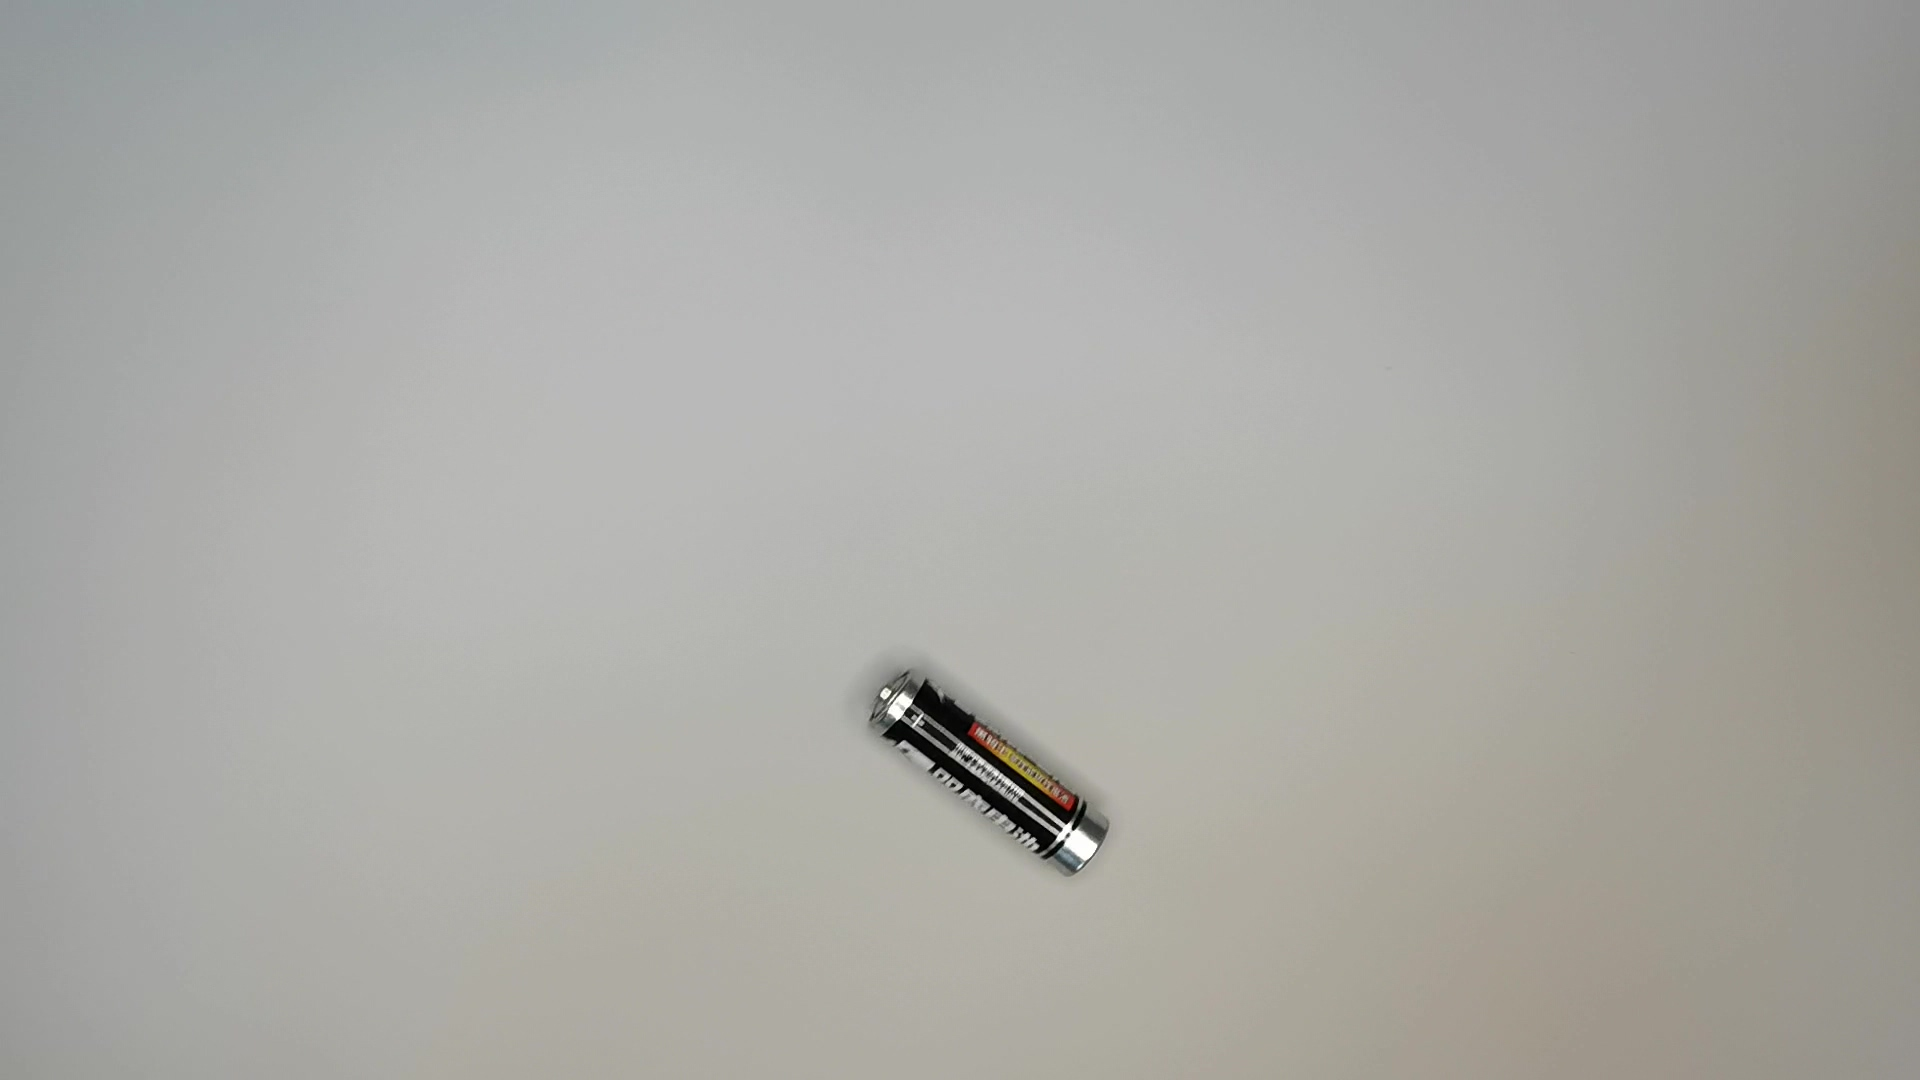battery: (862, 663, 1120, 880)
